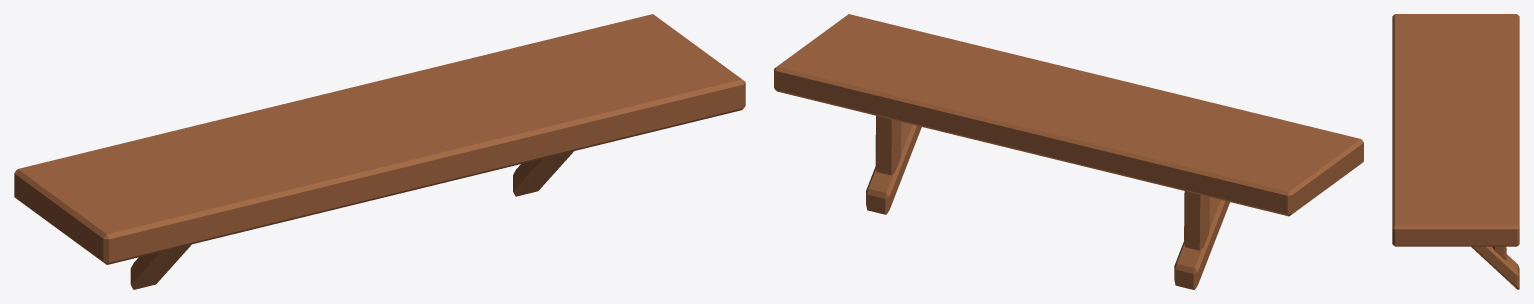
Rendered from Wall Shelf A.glb.
The picture shows the model from 3 angles, left to right: view 1: azimuth 30°, elevation 25°; view 2: azimuth 150°, elevation 25°; view 3: azimuth 270°, elevation 25°; orthographic projection. The views are drawn at different scales.
Parts seen in each view (by area): view 1: Wall shelf A; view 2: Wall shelf A; view 3: Wall shelf A.
Boxes of the visible parts, x1,y1,x2,y2 form: Wall shelf A: (14,14,745,289); Wall shelf A: (774,14,1363,289); Wall shelf A: (1392,14,1519,289).
Bounding box in the file's own units: 1.59 × 0.3547 × 0.4.
